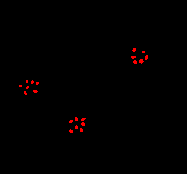Target: (139, 59, 144, 64), (132, 48, 136, 52), (133, 60, 137, 64), (81, 122, 85, 126), (69, 129, 73, 133), (145, 55, 148, 60), (131, 56, 136, 59), (33, 90, 38, 93), (81, 118, 86, 121), (31, 80, 34, 84), (24, 91, 27, 95), (75, 117, 78, 121), (69, 120, 73, 123), (75, 125, 78, 129), (80, 128, 83, 132), (36, 82, 39, 85), (26, 86, 29, 89), (142, 51, 145, 53), (26, 80, 28, 83), (19, 85, 22, 87)
